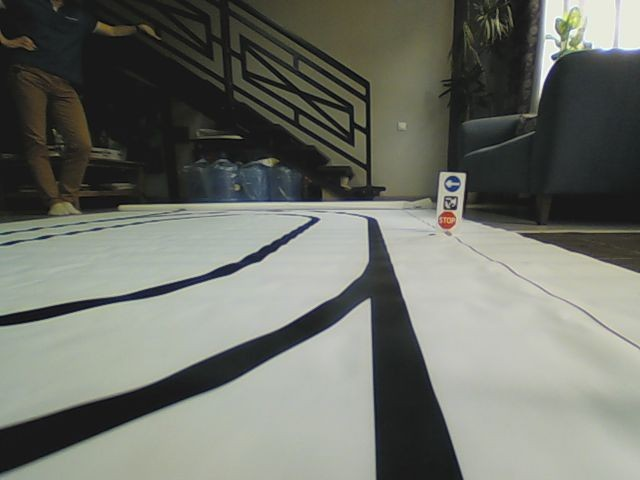Stop: (438, 211, 456, 228)
